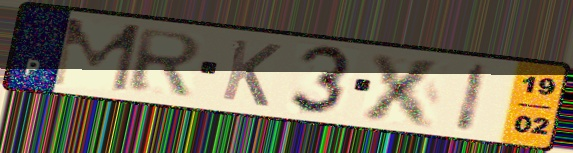3: (284, 44, 359, 119)
I: (452, 60, 493, 136)
K: (217, 36, 285, 110)
M: (46, 16, 145, 95)
R: (125, 27, 206, 98)
X: (357, 50, 449, 130)
